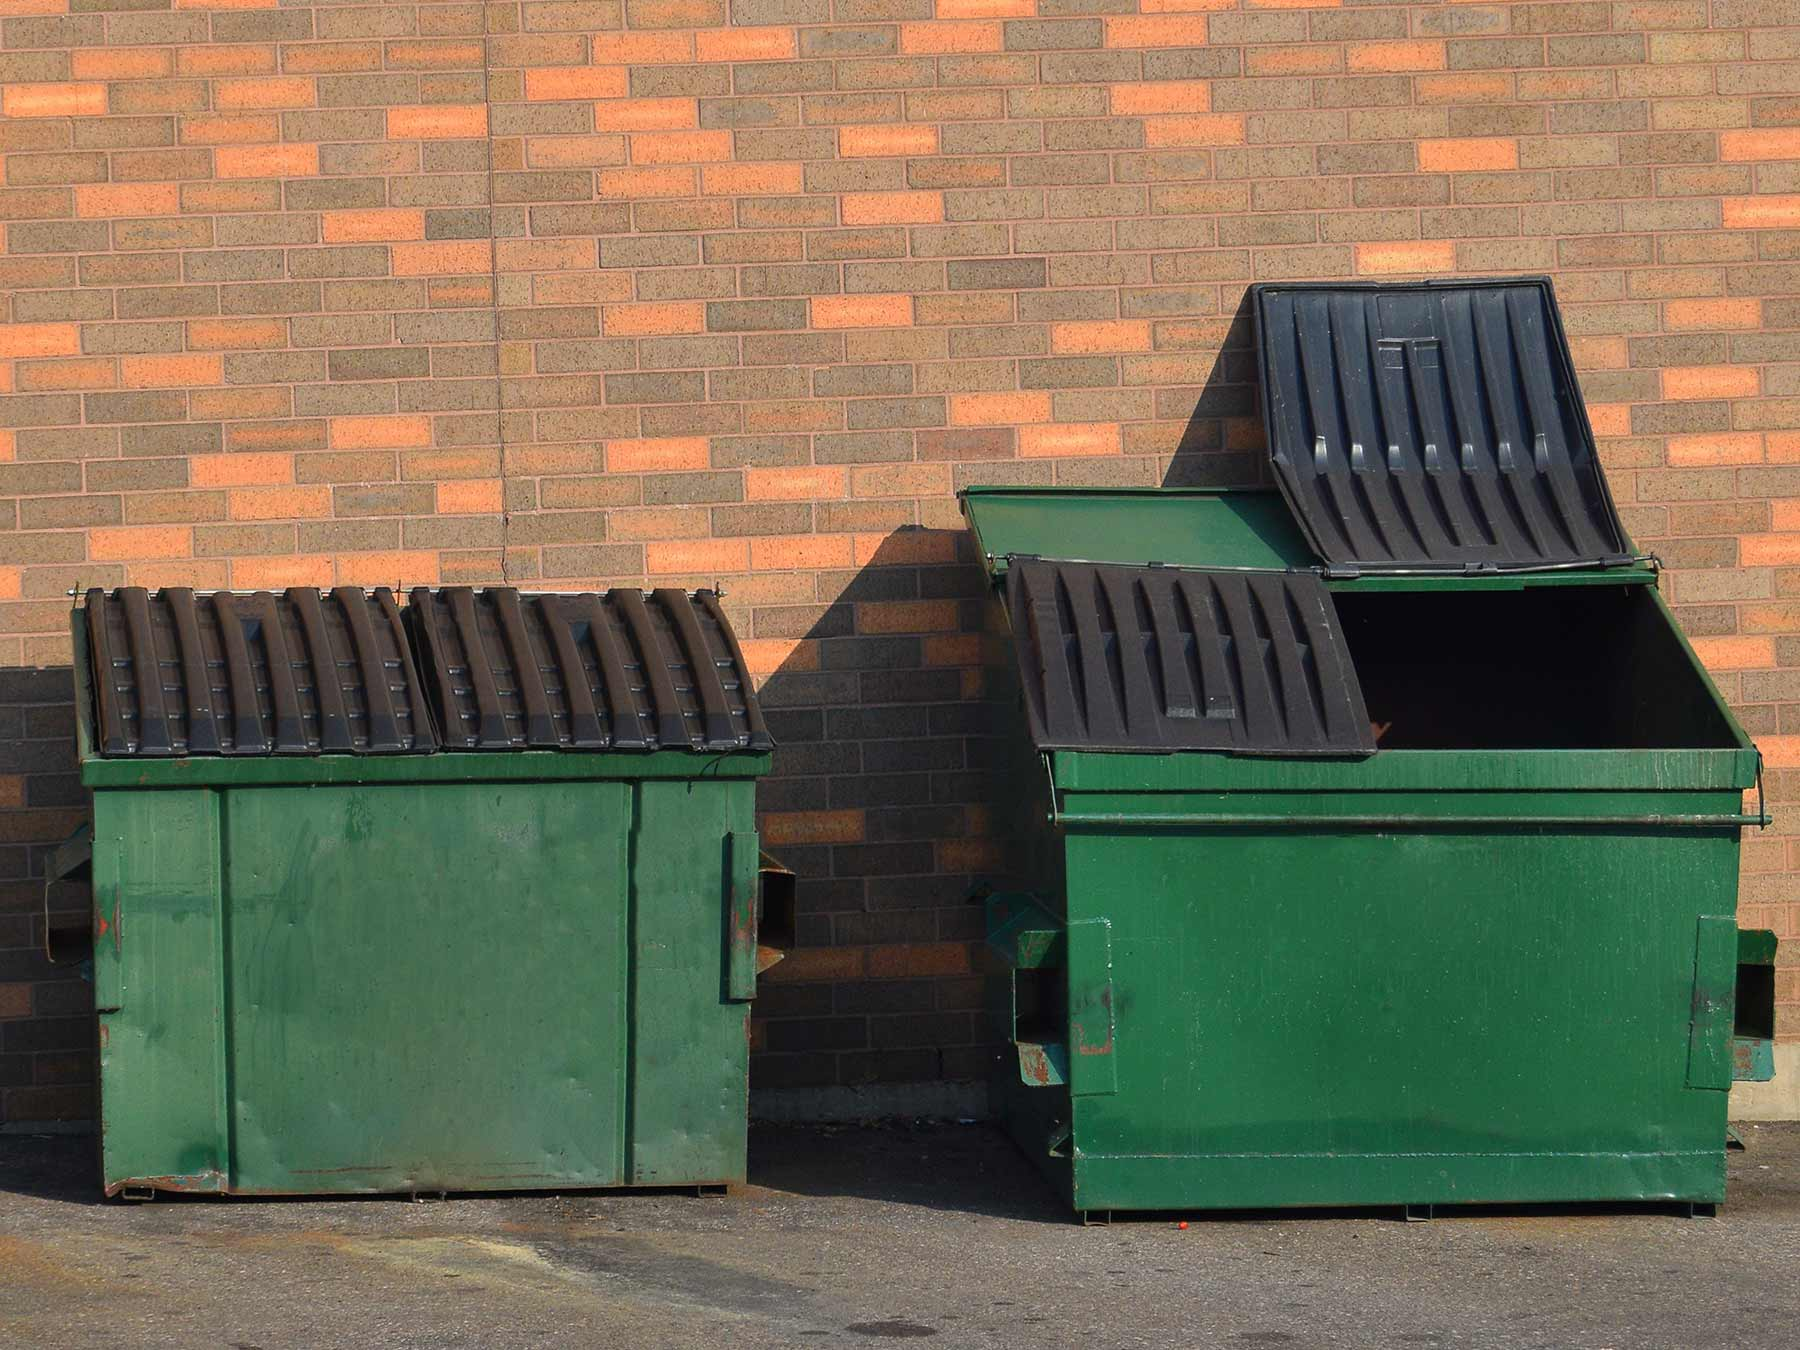Dumpster: (950, 250, 1794, 1229), (45, 570, 799, 1231)
